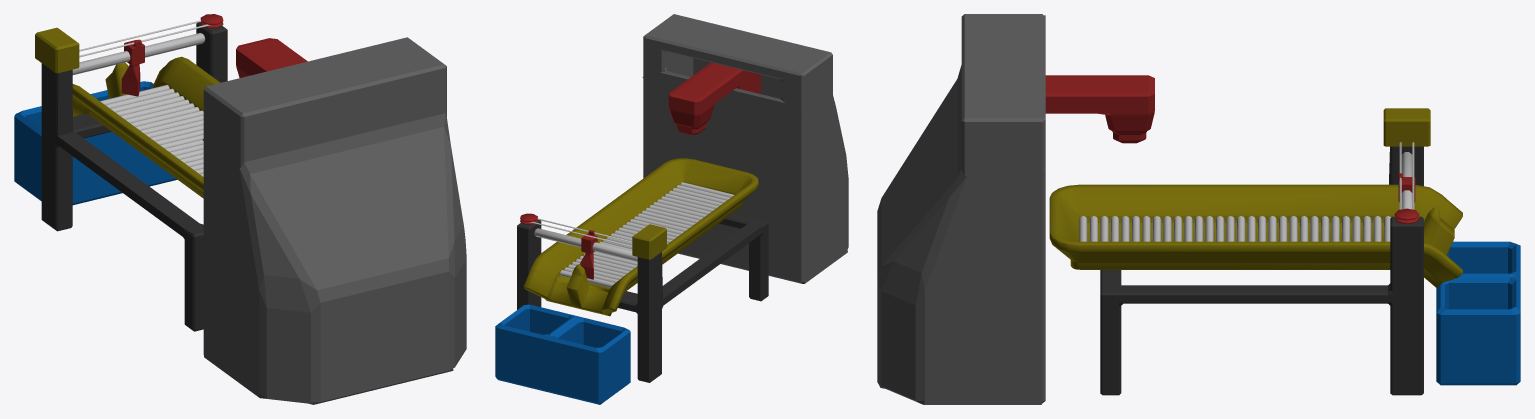
The model's file is Assembly Line.fbx.
3 views of the same model, side by side, from view 1: azimuth 30°, elevation 25°; view 2: azimuth 150°, elevation 25°; view 3: azimuth 270°, elevation 25° (orthographic). The views are drawn at different scales.
Visible parts, largest first — view 1: Dropper, Structure, Boxes, Table, Roller, DropperArm, Motor, Pusher, Wire; view 2: Dropper, Table, Boxes, Structure, Roller, DropperArm, Motor, Pusher, Wire; view 3: Dropper, Table, Structure, Boxes, Roller, DropperArm, Motor.
Boxes of the visible parts, x1,y1,x2,y2 form: Dropper: (202, 37, 466, 404); Structure: (41, 22, 227, 331); Boxes: (14, 81, 177, 205); Table: (72, 56, 220, 198); Roller: (100, 85, 203, 176); DropperArm: (236, 38, 307, 77); Motor: (35, 27, 79, 73); Pusher: (121, 39, 144, 96); Wire: (79, 20, 212, 57); Dropper: (642, 14, 848, 283); Table: (523, 158, 758, 316); Boxes: (495, 304, 630, 404); Structure: (517, 213, 768, 382); Roller: (560, 182, 734, 287); DropperArm: (668, 62, 760, 134); Motor: (632, 224, 666, 259); Pusher: (580, 230, 597, 279); Wire: (529, 218, 632, 247); Dropper: (877, 14, 1045, 404); Table: (1049, 184, 1462, 287); Structure: (1100, 146, 1423, 395); Boxes: (1436, 241, 1520, 385); Roller: (1079, 216, 1391, 241); DropperArm: (1045, 75, 1154, 143); Motor: (1383, 108, 1430, 146).
Size of the model in its own units: 600 by 750 by 1530.
